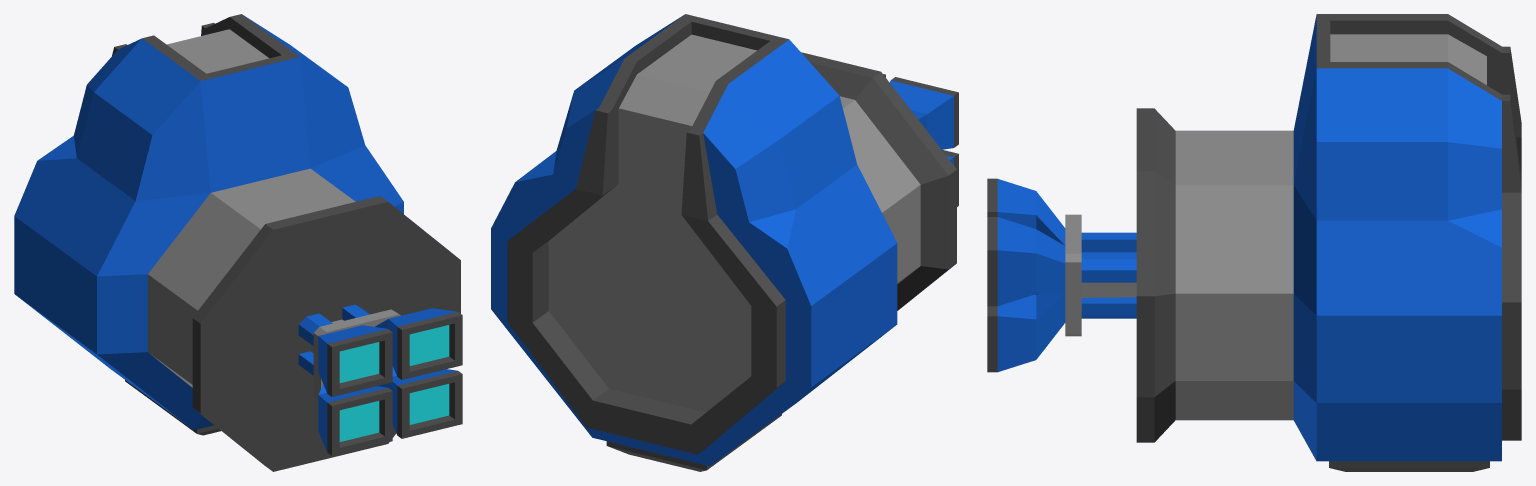
The model's file is Instrument_TractorBeam_2.fbx.
The picture shows the model from 3 angles, left to right: view 1: azimuth 30°, elevation 25°; view 2: azimuth 150°, elevation 25°; view 3: azimuth 270°, elevation 25°; orthographic projection. The views are drawn at different scales.
Visible parts, largest first — view 1: DroneTractorBeam, DroneTractorBeamBase, DroneTractorBeamBarrel; view 2: DroneTractorBeam, DroneTractorBeamBase, DroneTractorBeamBarrel; view 3: DroneTractorBeam, DroneTractorBeamBarrel, DroneTractorBeamBase.
Boxes of the visible parts, x1=… form: DroneTractorBeam: x1=14, y1=14, x2=403, y2=435; DroneTractorBeamBase: x1=192, y1=196, x2=460, y2=471; DroneTractorBeamBarrel: x1=298, y1=304, x2=462, y2=455; DroneTractorBeam: x1=491, y1=14, x2=920, y2=471; DroneTractorBeamBase: x1=801, y1=52, x2=956, y2=310; DroneTractorBeamBarrel: x1=883, y1=74, x2=958, y2=206; DroneTractorBeam: x1=1175, y1=14, x2=1521, y2=471; DroneTractorBeamBarrel: x1=987, y1=178, x2=1136, y2=372; DroneTractorBeamBase: x1=1136, y1=108, x2=1175, y2=442.
Bounding box in the file's own units: 0.4727 × 0.541 × 0.636.
